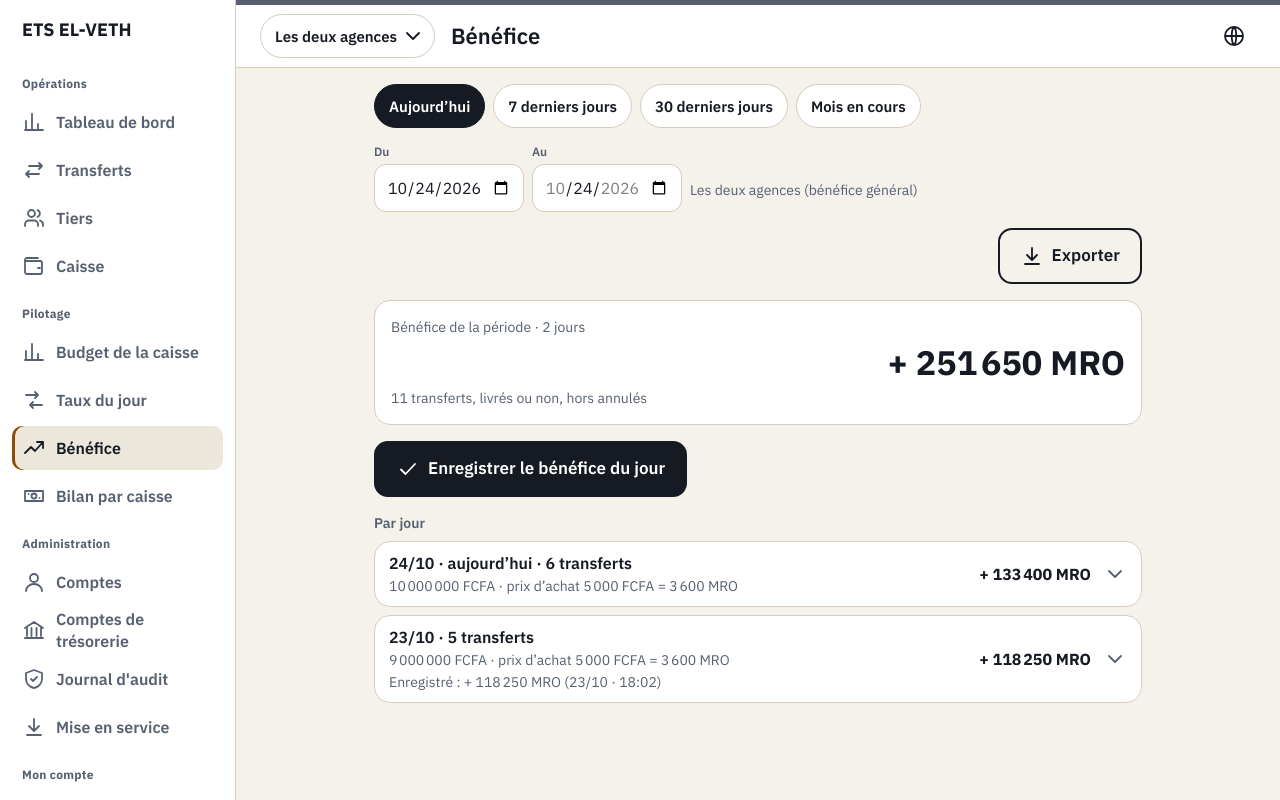
it: Bénéfice — Superviseur › enregistre le bénéfice du jour après confirmation (les deux agences)
Click the button "Enregistrer le bénéfice du jour" at {"x": 531, "y": 468}, box [374,440,687,496]
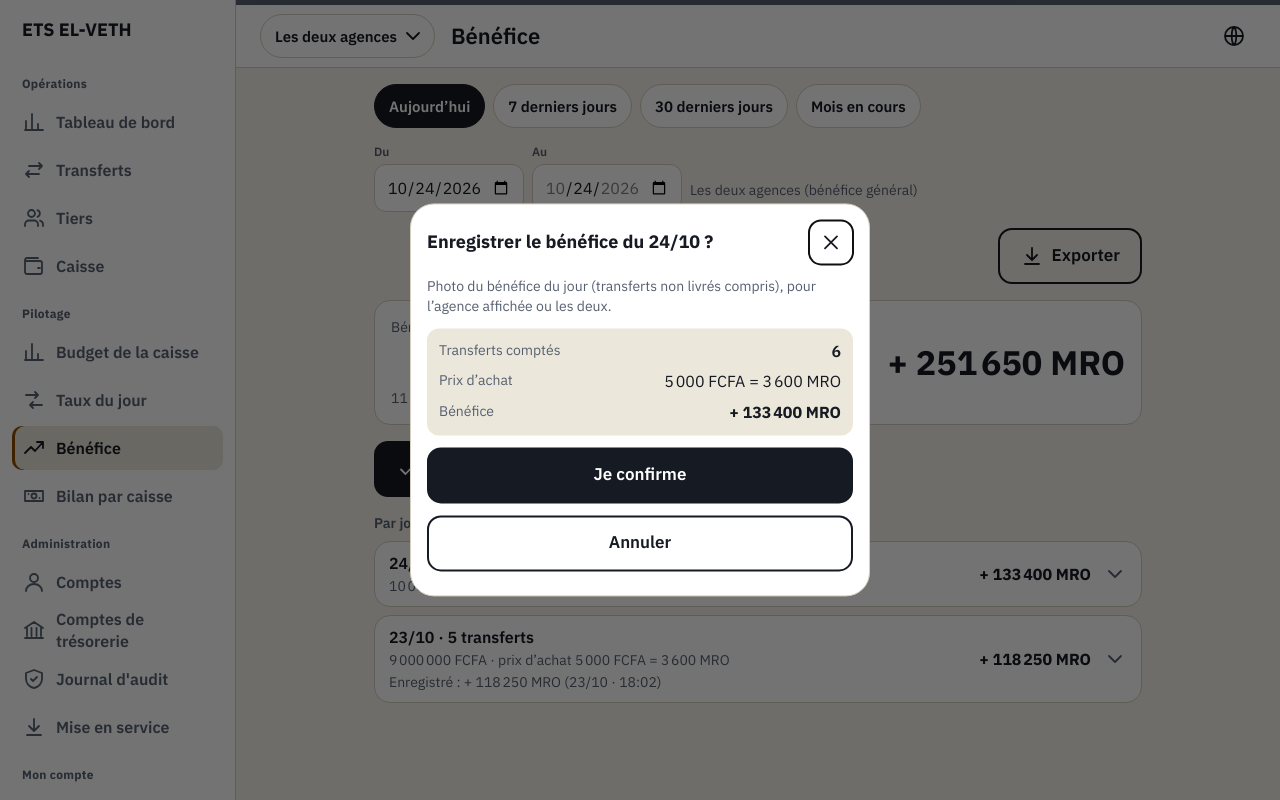
Now the text "6" is shown, box [831,341,841,361]
Click the button "Je confirme" at {"x": 640, "y": 476}, box [427,448,853,504]
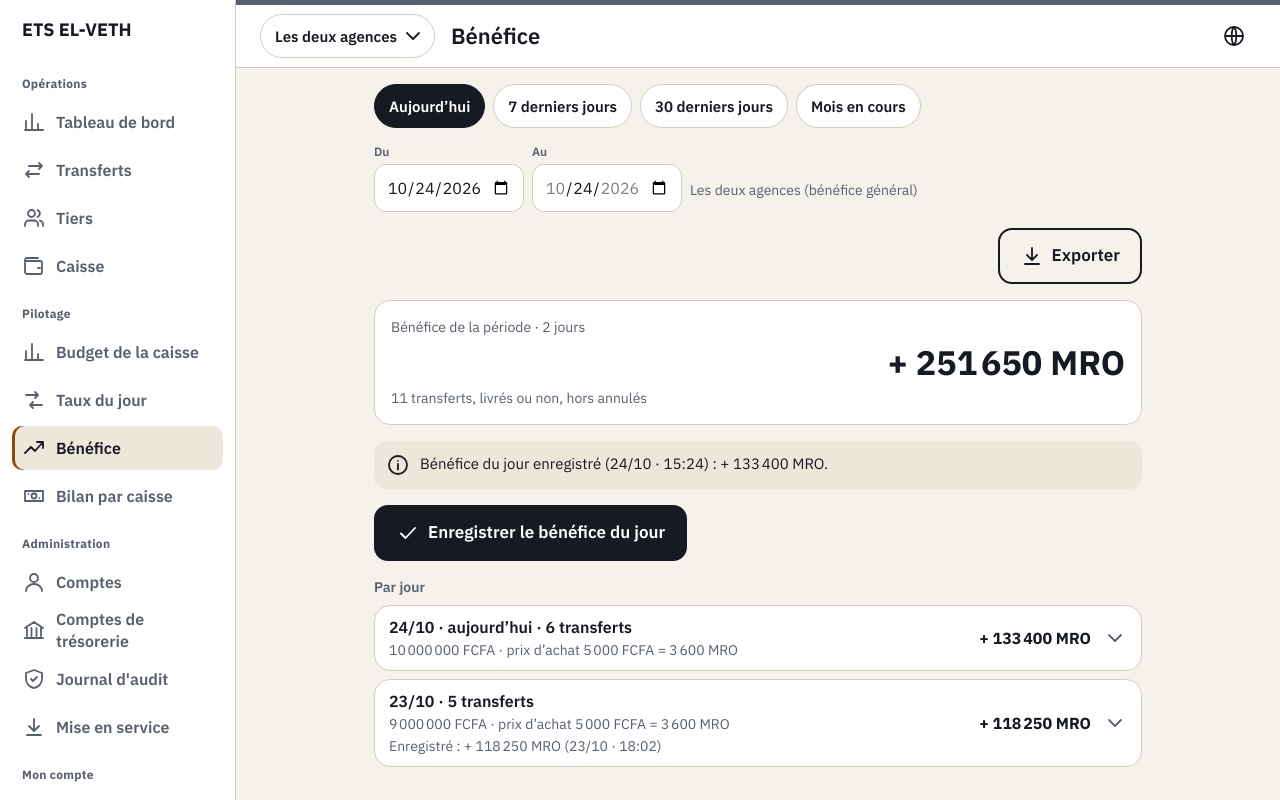
Now the dialog is gone
Now the text "Bénéfice du jour enregistré (24/10 · 15:24) : + 133 400 MRO." is shown, box [420,452,828,476]
